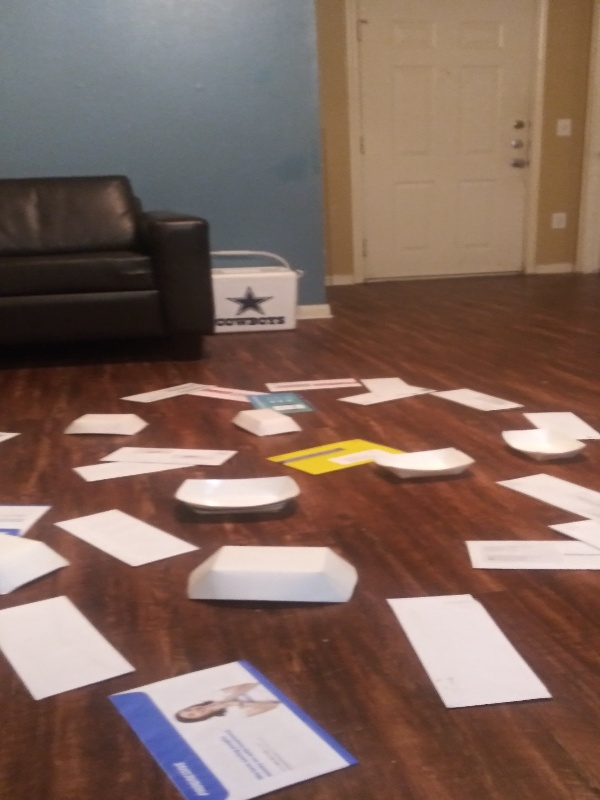plate: (181, 541, 361, 611), (171, 474, 305, 523), (1, 528, 76, 603), (367, 444, 476, 487), (492, 425, 591, 466), (59, 408, 152, 443), (225, 405, 306, 439)
